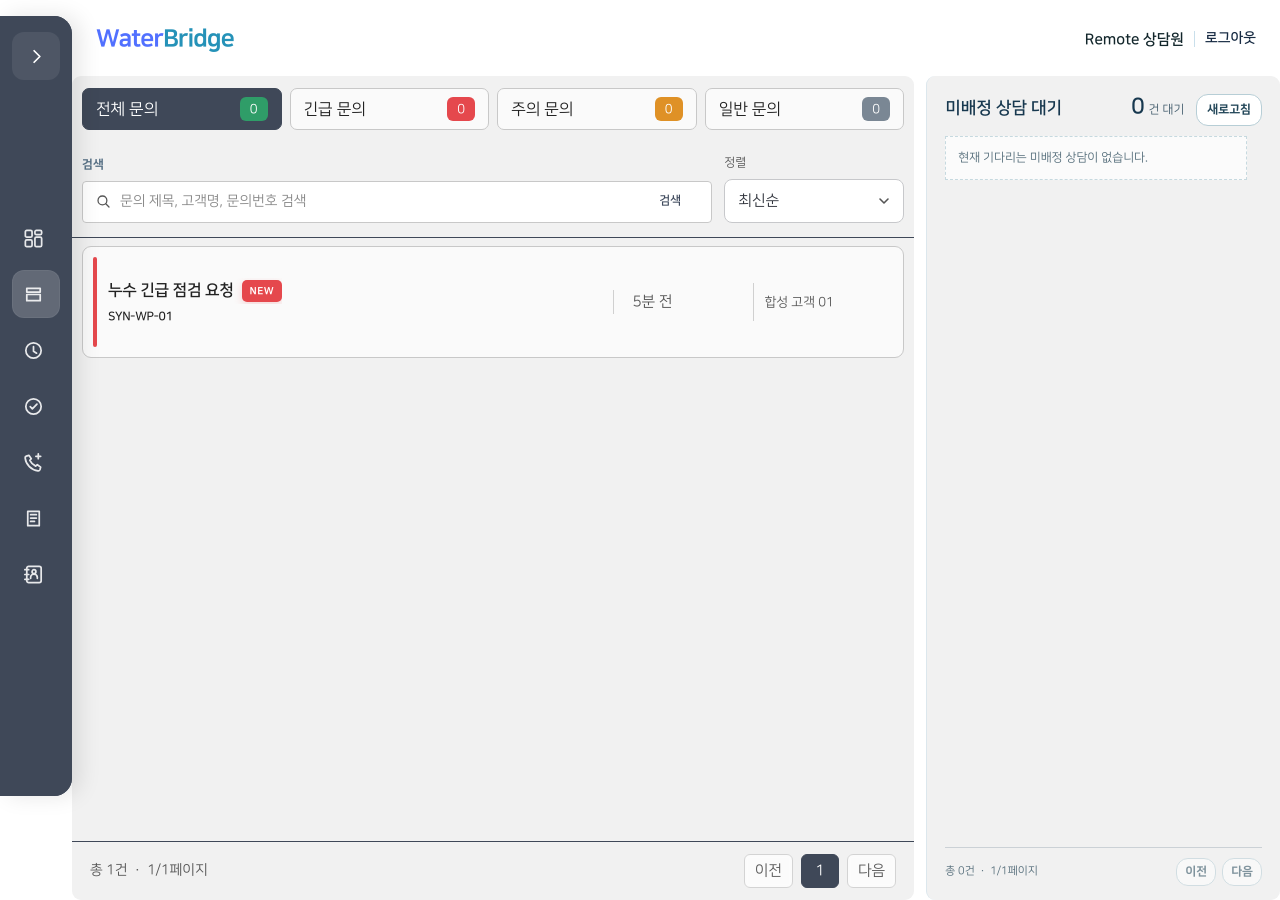
Scenario: 상담사 Remote 첫 상세 패널 경로 › list 문의 클릭은 현재 화면을 유지하고 Remote 첫 패널을 연다
This screenshot has width=1280, height=900.
Click the button "누수 긴급 점검 요청 NEW SYN-WP-01 5분 전 합성 고객 01": (171, 290) [82,246,904,358]
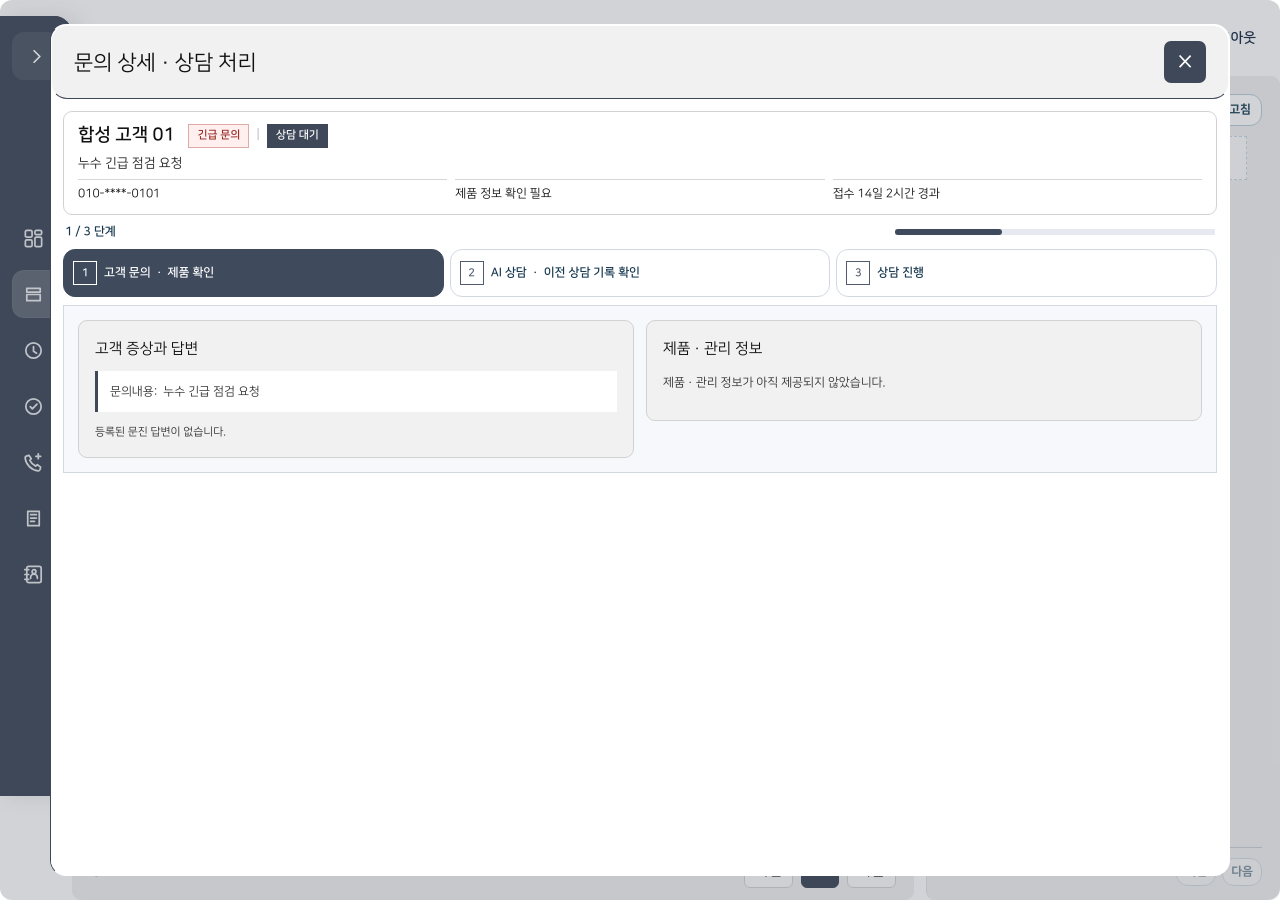
Check: the dialog is shown
Check: the element named "상담 문의 상세" is shown, box [63,111,1217,473]
Check: the heading "합성 고객 01" is shown, box [78,122,174,150]
Click the button with aria-label "상담 2단계: AI 상담 · 이전 상담 기록 확인": (640, 273) [450,249,830,297]
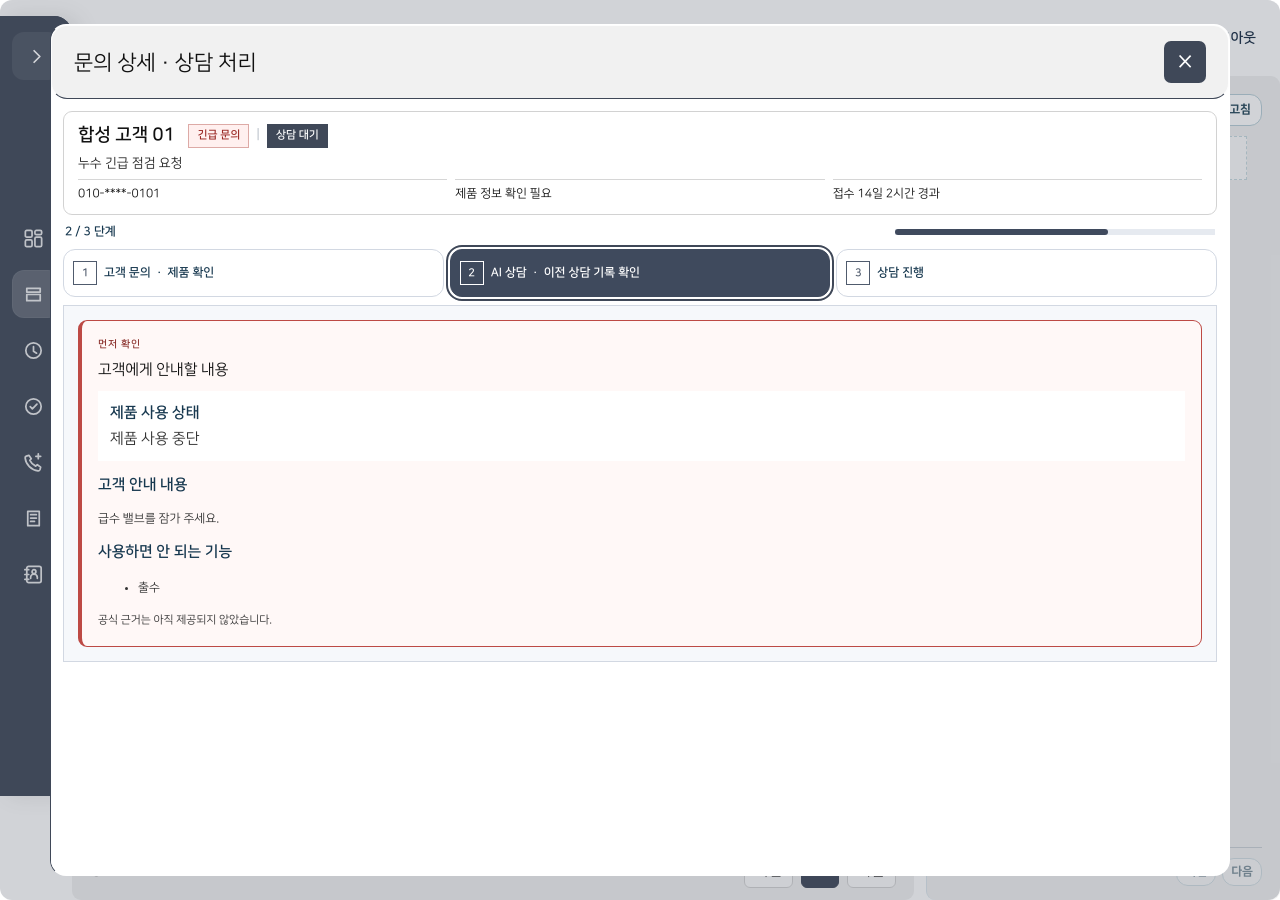
Check: the heading "고객에게 안내할 내용" is shown, box [98,361,228,378]
Click the button with aria-label "상담 3단계: 상담 진행": (901, 273) [836,249,1217,297]
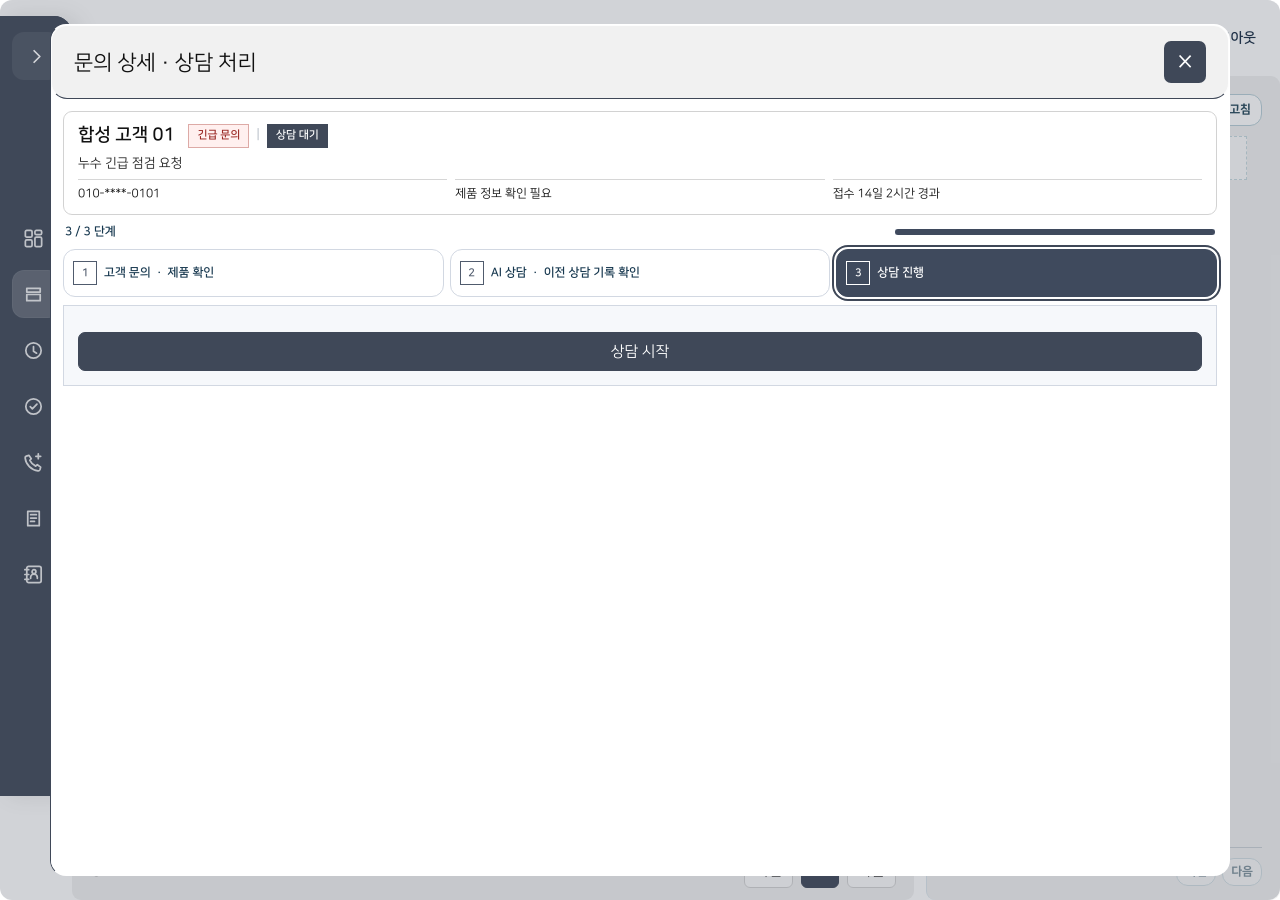
Check: the element named "상담 처리 작업" is shown, box [78,320,1202,371]
